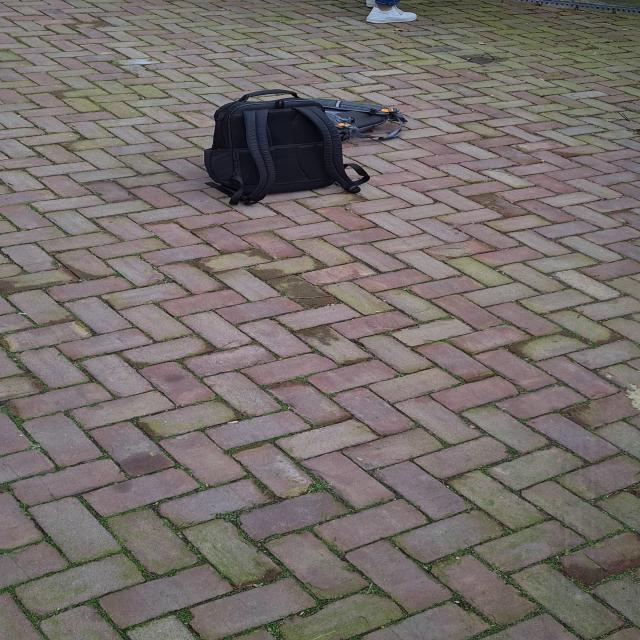backpack: (196, 87, 363, 205), (296, 91, 412, 147)
